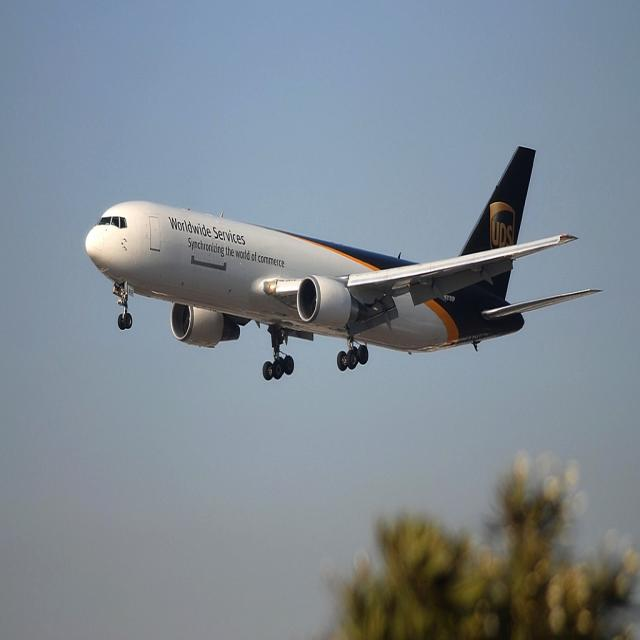ups: (490, 202, 517, 249)
